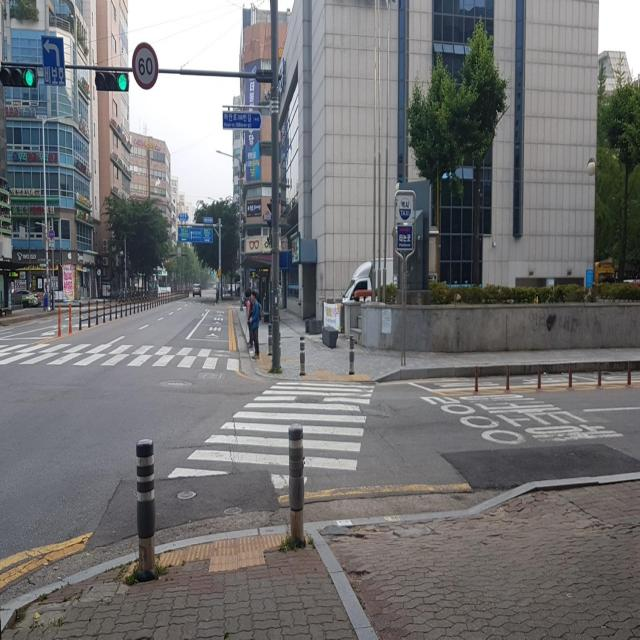횡단보도: (168, 379, 376, 490), (0, 341, 248, 377)
